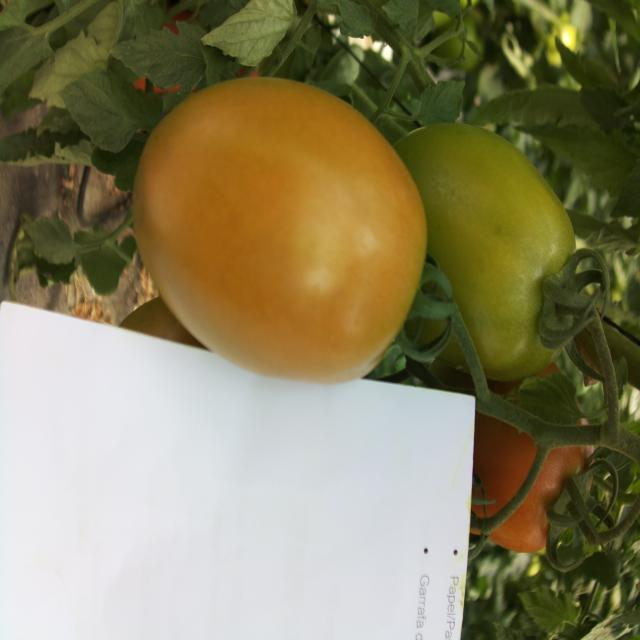sari: (126, 70, 428, 383)
